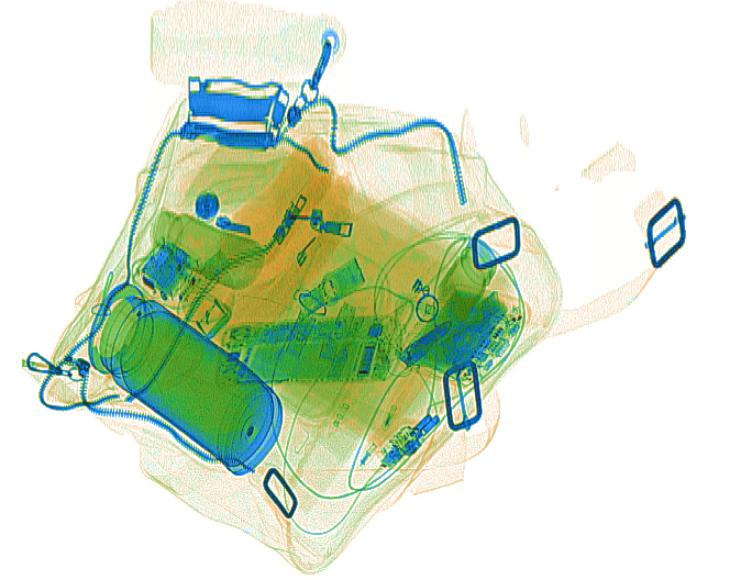USBFlashDisk: (297, 253, 367, 321)
